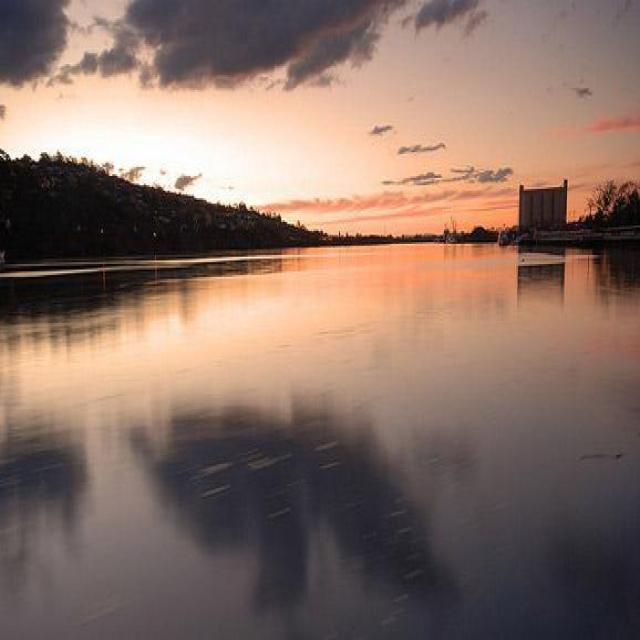other: (281, 183, 521, 280), (55, 112, 236, 208)
